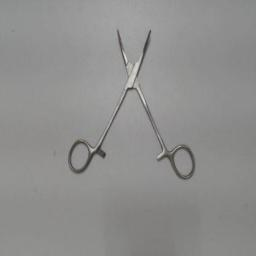Crile Artery Forceps: (64, 24, 196, 184)
